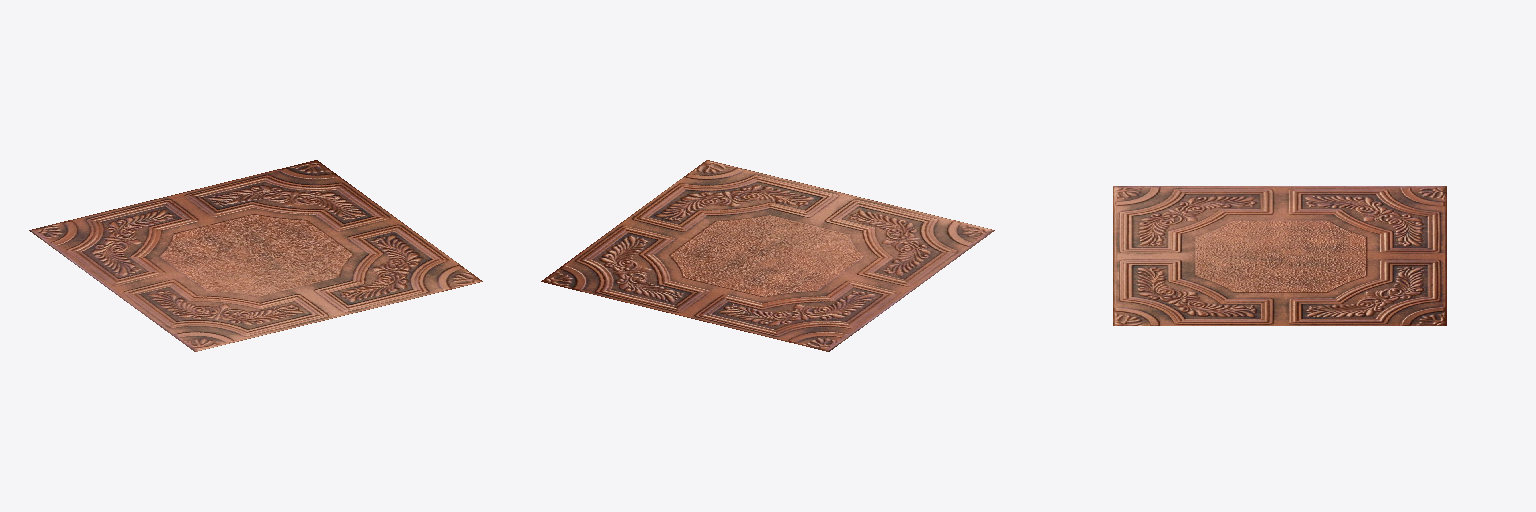
3 renders of one model, left to right at view 1: azimuth 30°, elevation 25°; view 2: azimuth 150°, elevation 25°; view 3: azimuth 270°, elevation 25°, orthographic.
Visible parts, largest first — view 1: Plane; view 2: Plane; view 3: Plane.
Boxes of the visible parts, x1=… form: Plane: x1=29, y1=160, x2=482, y2=351; Plane: x1=541, y1=160, x2=994, y2=351; Plane: x1=1113, y1=186, x2=1446, y2=325.
Bounding box in the file's own units: 1 × 0 × 1.
1 materials, 1 textured.